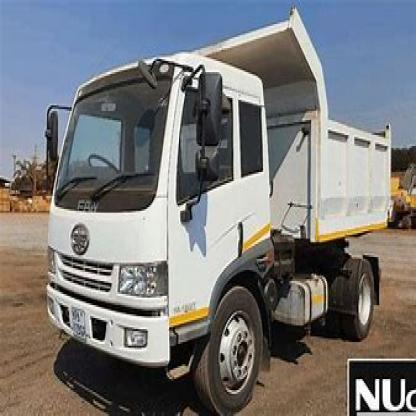dump_truck: (33, 11, 388, 411)
